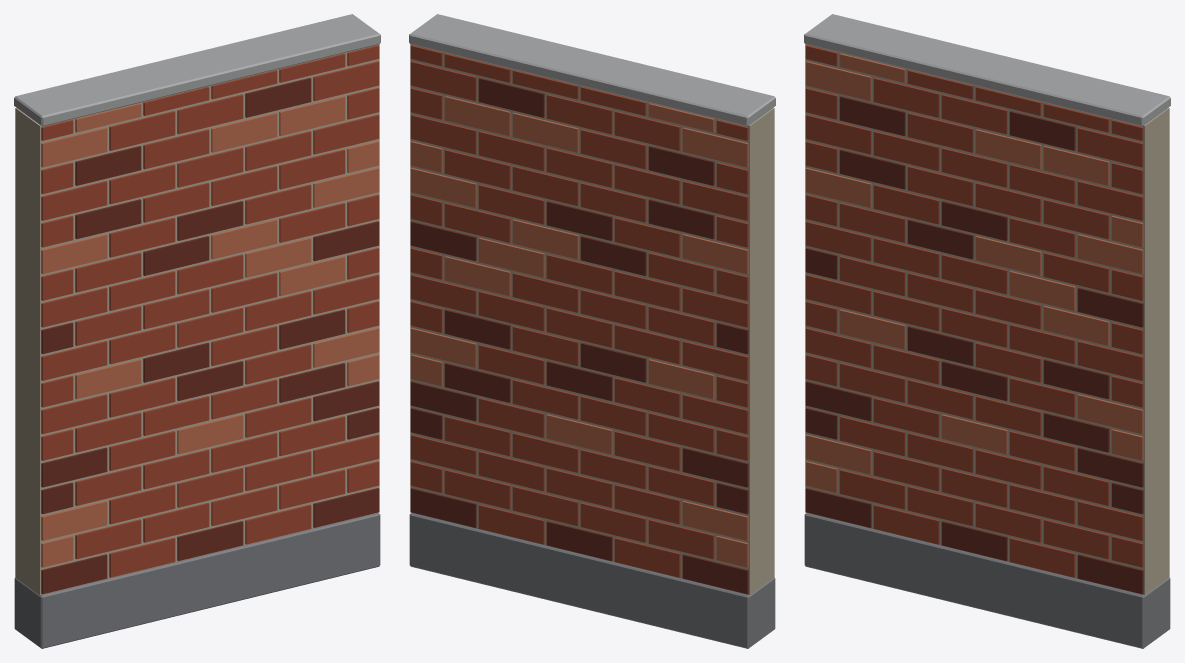
File: Wall_Brick.fbx
3 views of the same model, side by side, from view 1: azimuth 30°, elevation 25°; view 2: azimuth 150°, elevation 25°; view 3: azimuth 330°, elevation 25° (orthographic).
Parts seen in each view (by area): view 1: Wall_Brick; view 2: Wall_Brick; view 3: Wall_Brick.
Boxes of the visible parts, x1,y1,x2,y2 form: Wall_Brick: (14,14,380,648); Wall_Brick: (409,14,775,648); Wall_Brick: (804,14,1170,648).
Bounding box in the file's own units: 2 × 3 × 0.29.
1 material, 1 textured.
